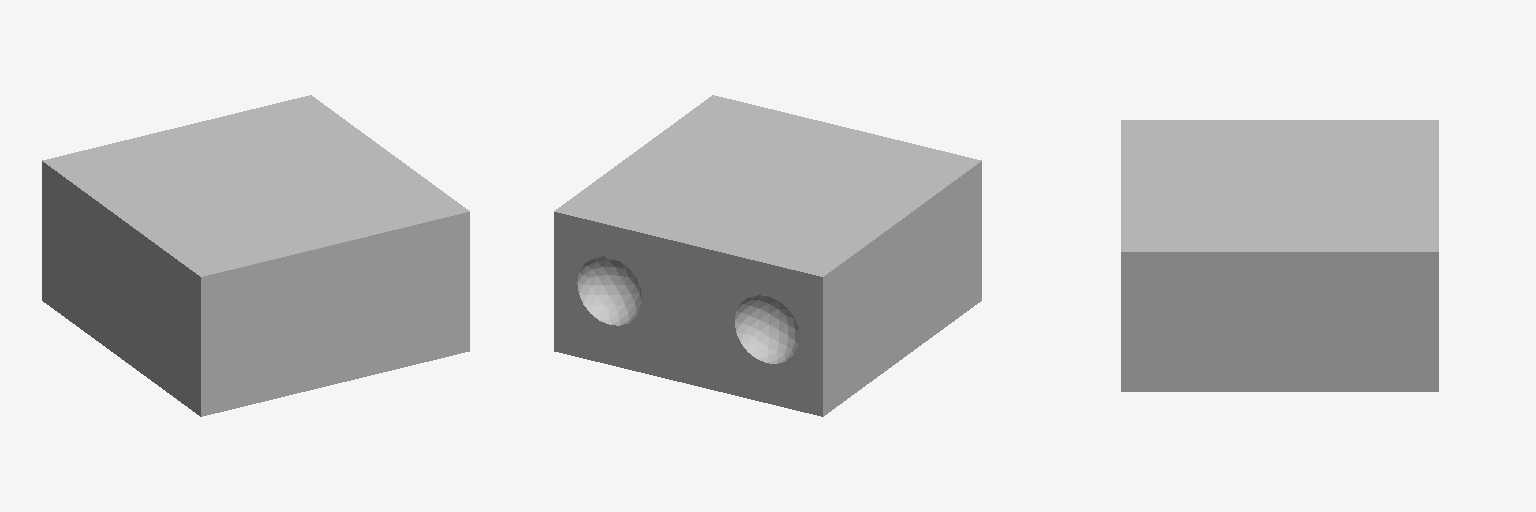
Rendered from BodyNew.obj.
3 renders of one model, left to right at view 1: azimuth 30°, elevation 25°; view 2: azimuth 150°, elevation 25°; view 3: azimuth 270°, elevation 25°, orthographic.
Parts seen in each view (by area): view 1: Body.001; view 2: Body.001; view 3: Body.001.
Part boxes in pixels (x1,y1,x2,y2): Body.001: (42, 95, 469, 416); Body.001: (554, 95, 981, 416); Body.001: (1121, 120, 1438, 391).
Size of the model in its own units: 0.3427 by 0.17 by 0.3509.